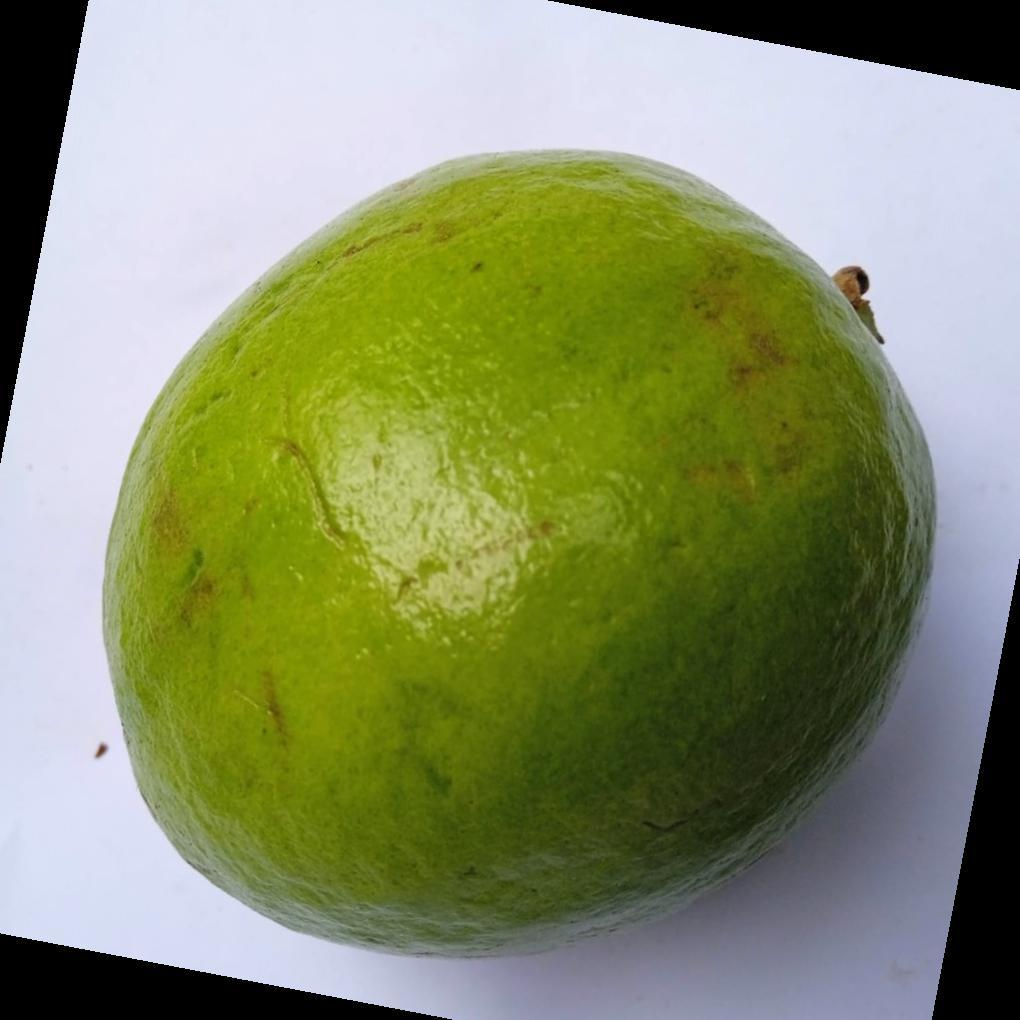FreshGuava: (98, 149, 937, 962)
